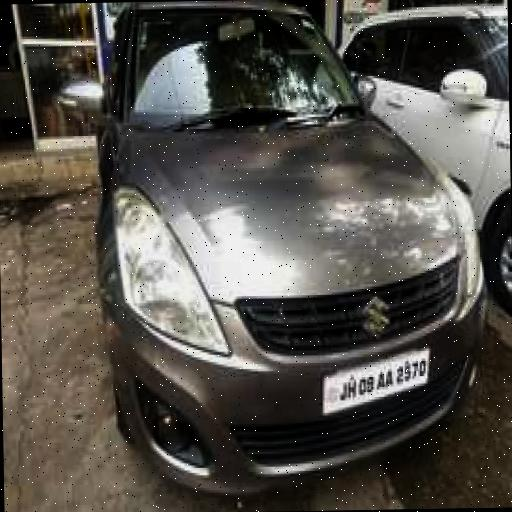license_plate`: (320, 343, 428, 413)
